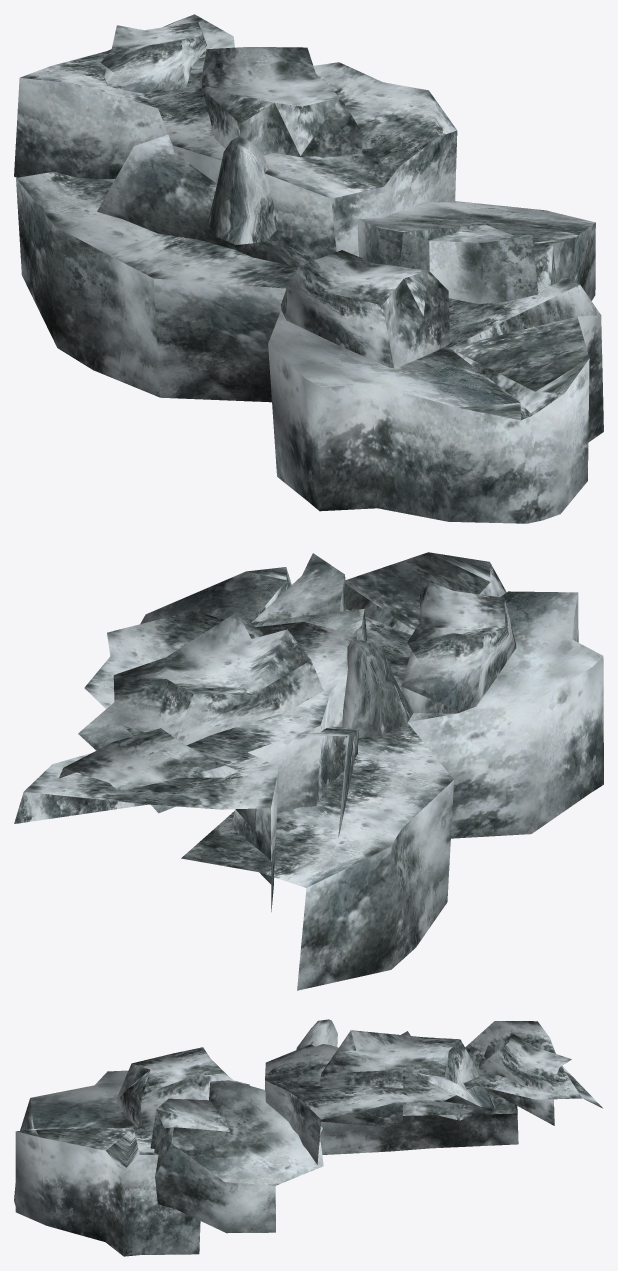
The model's file is S_Rock_White048_1.FBX.
The picture shows the model from 3 angles, top to bottom: view 1: azimuth 30°, elevation 25°; view 2: azimuth 150°, elevation 25°; view 3: azimuth 270°, elevation 25°; orthographic projection. The views are drawn at different scales.
Parts seen in each view (by area): view 1: S_Rock_White048_1; view 2: S_Rock_White048_1; view 3: S_Rock_White048_1.
Part boxes in pixels (box(x1,y1,x2,y2)): S_Rock_White048_1: box(14, 14, 603, 523); S_Rock_White048_1: box(14, 552, 603, 990); S_Rock_White048_1: box(14, 1019, 602, 1256).
Bounding box in the file's own units: 577 × 365 × 1097.
